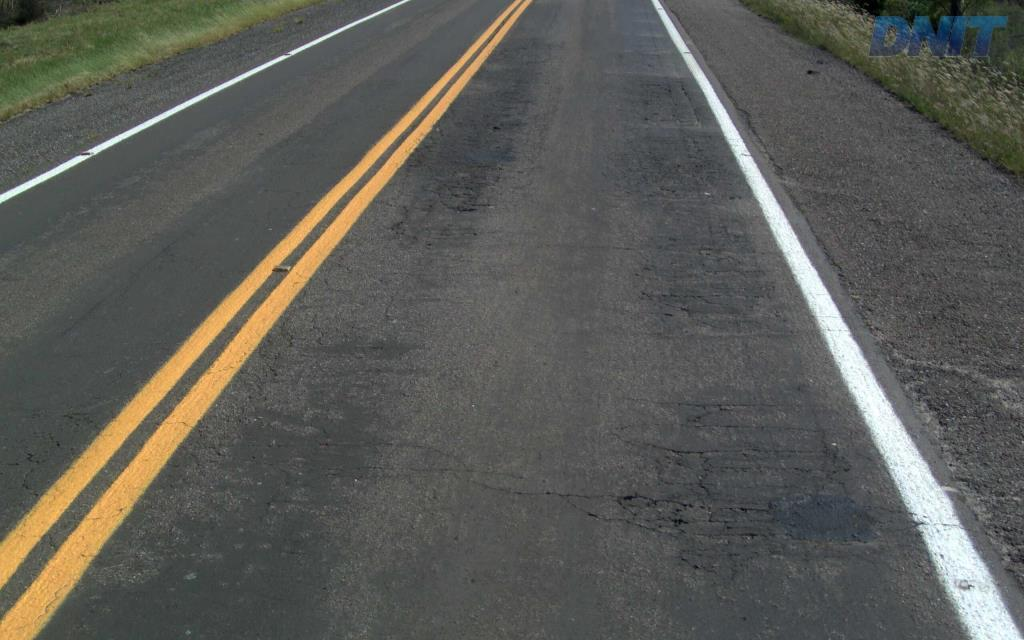crack: (607, 491, 693, 525)
